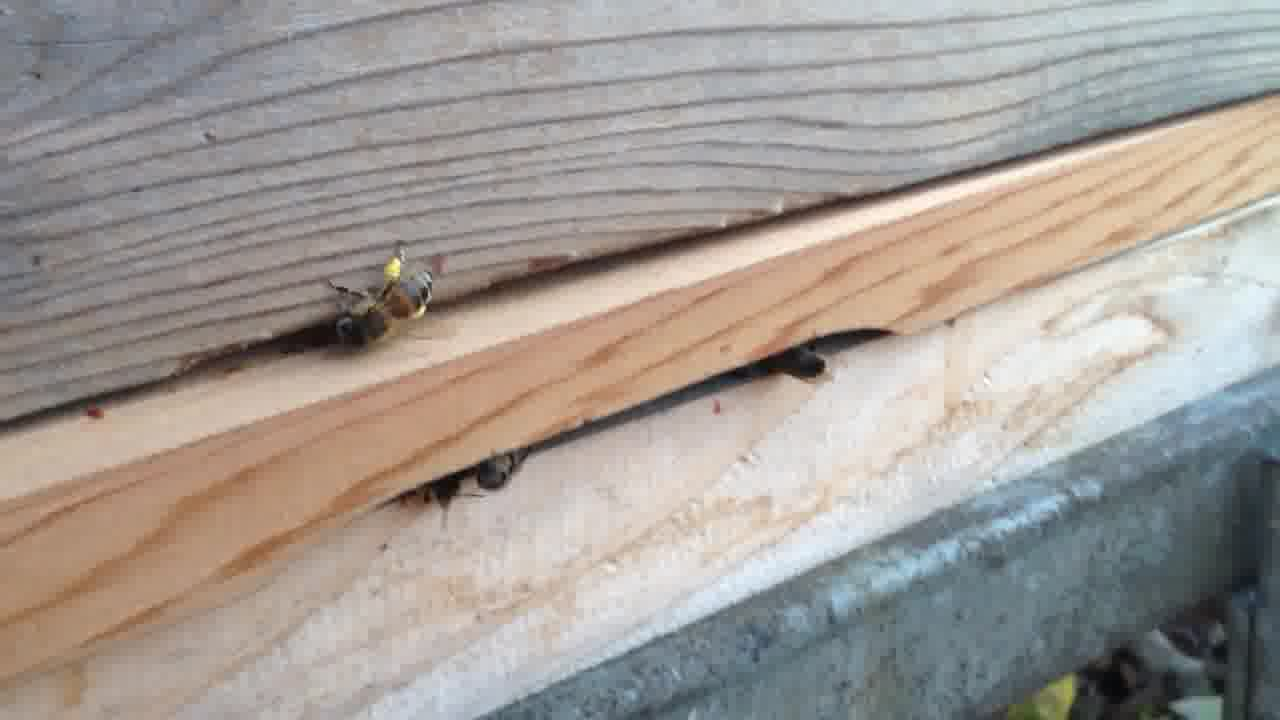pollen: (313, 246, 439, 349)
